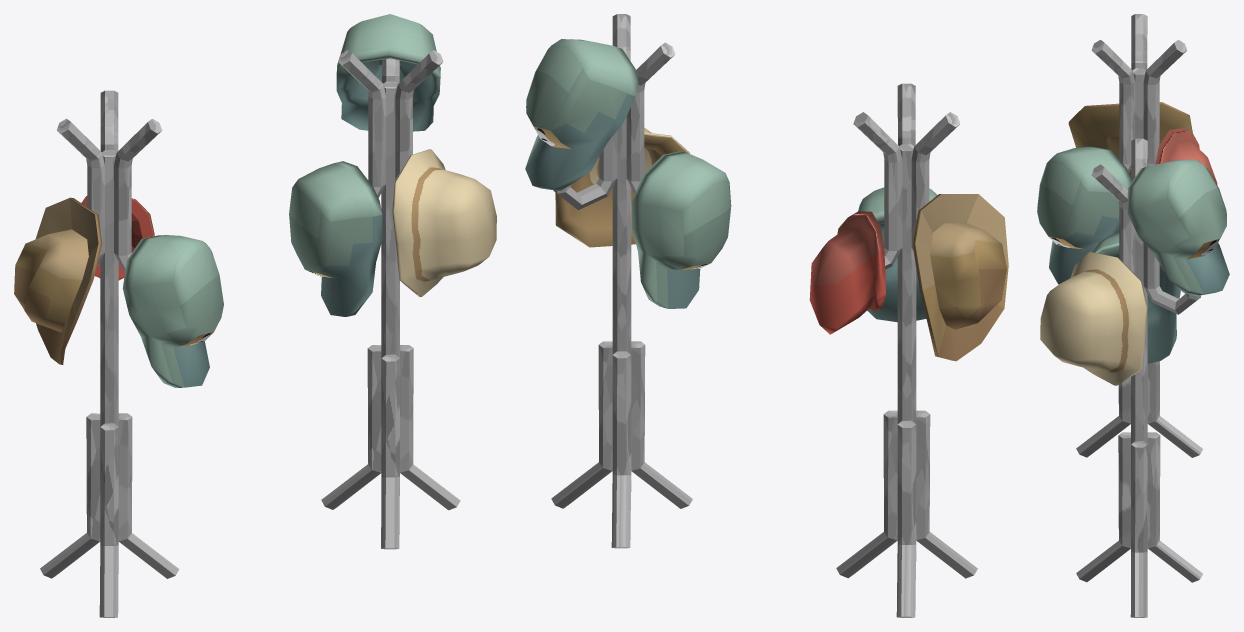
File: Gantungan Topi.fbx
3 renders of one model, left to right at view 1: azimuth 30°, elevation 25°; view 2: azimuth 150°, elevation 25°; view 3: azimuth 270°, elevation 25°, orthographic. The views are drawn at different scales.
Visible parts, largest first — view 1: Gantungan, Gantungan.001; view 2: Gantungan, Gantungan.001; view 3: Gantungan, Gantungan.001.
Boxes of the visible parts, x1=… form: Gantungan: x1=289, y1=14, x2=496, y2=549; Gantungan.001: x1=14, y1=90, x2=223, y2=617; Gantungan: x1=525, y1=14, x2=731, y2=548; Gantungan.001: x1=809, y1=83, x2=1008, y2=617; Gantungan: x1=1040, y1=138, x2=1229, y2=617; Gantungan.001: x1=1037, y1=14, x2=1217, y2=457.
Bounding box in the file's own units: 382 × 400 × 158.
